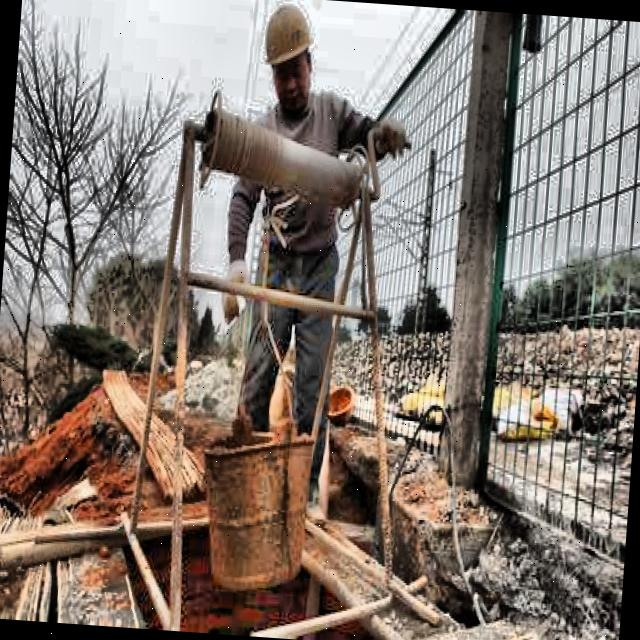helmet: (253, 0, 323, 120)
